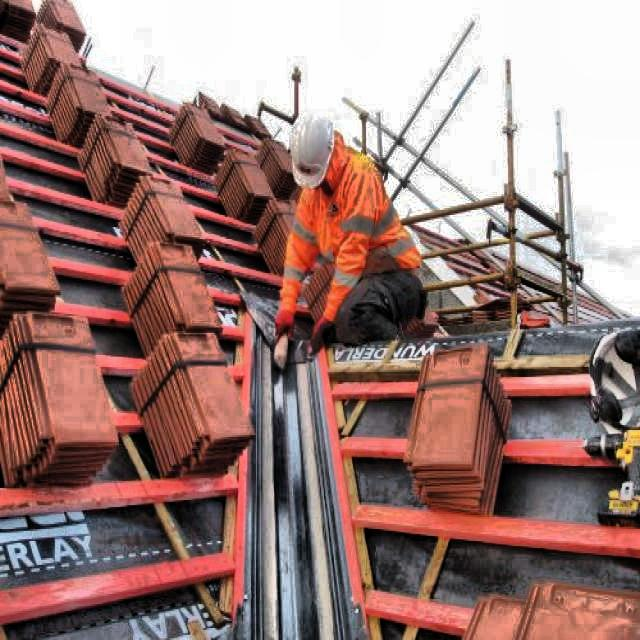person: (266, 102, 444, 374)
